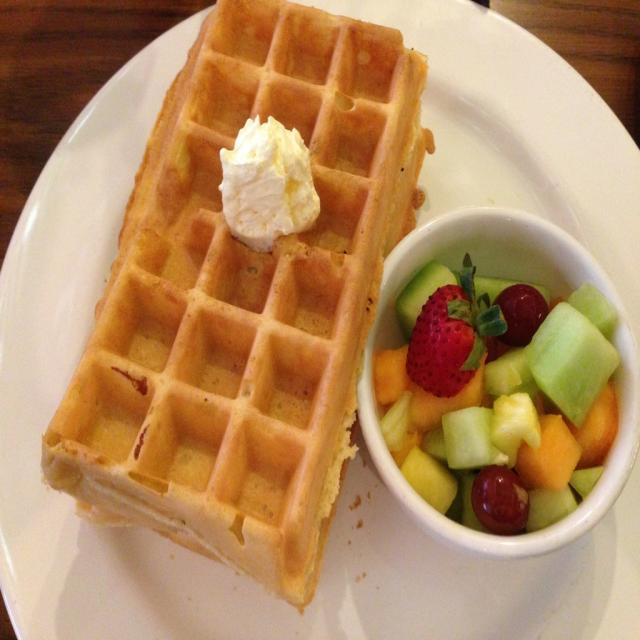Waffle: (37, 0, 439, 608)
